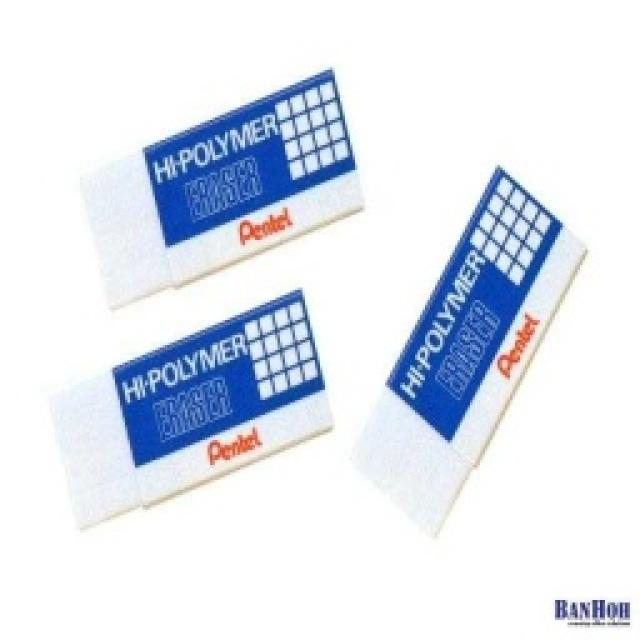Silgi: (77, 64, 370, 308)
